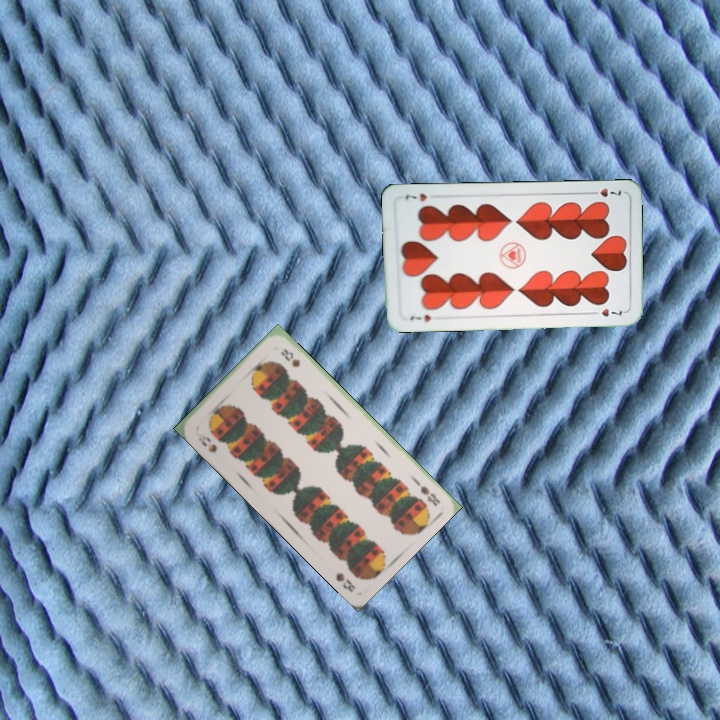H7: (585, 184, 624, 199), (406, 311, 433, 324)
S8: (410, 475, 443, 509), (191, 428, 219, 455)
